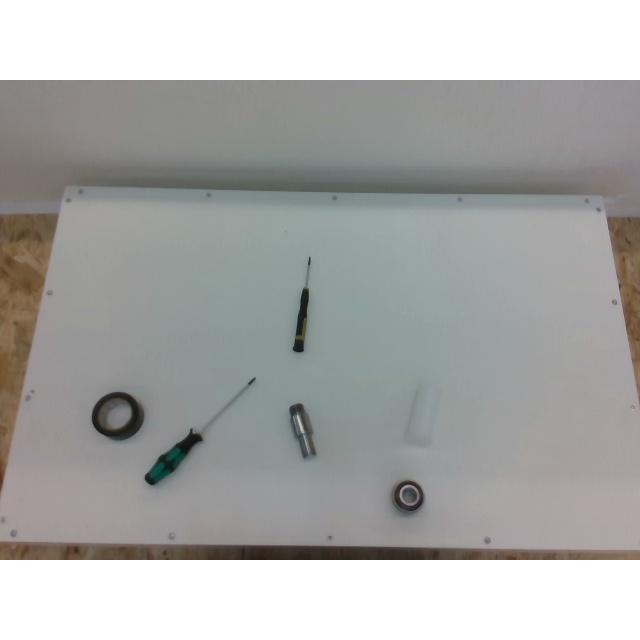Axis2: (288, 402, 316, 458)
Bearing2: (392, 479, 424, 513)
Screwdriver: (144, 376, 256, 484)
Spacer: (404, 382, 440, 446)
